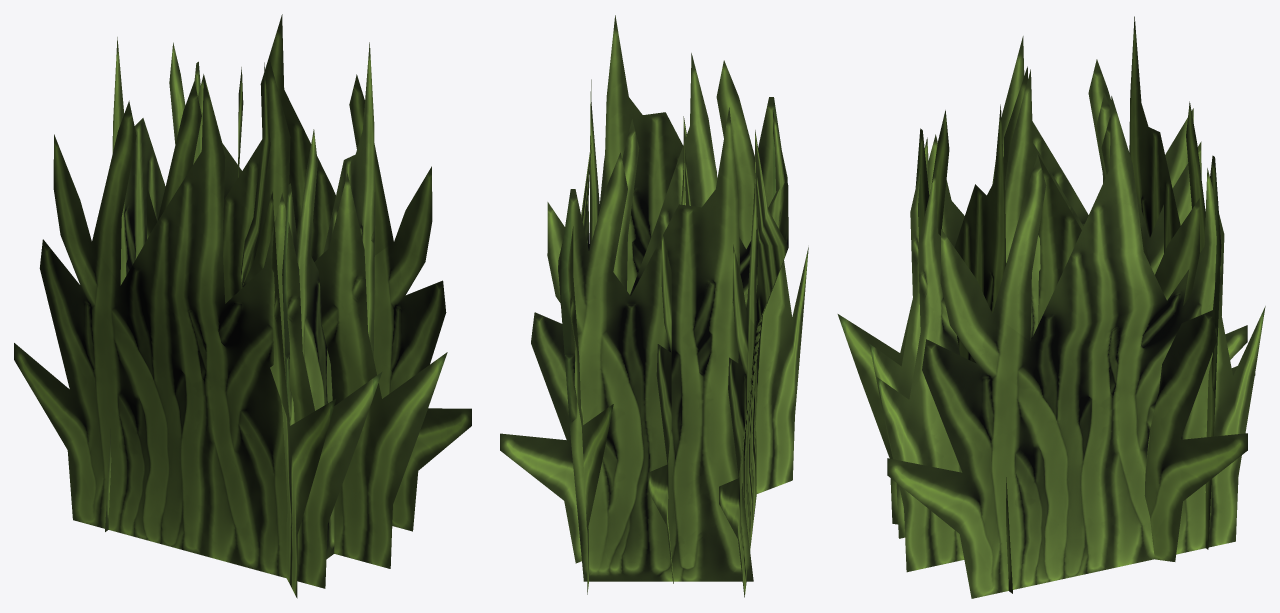
Rendered from Grass.fbx.
3 views of the same model, side by side, from view 1: azimuth 30°, elevation 25°; view 2: azimuth 150°, elevation 25°; view 3: azimuth 270°, elevation 25° (orthographic). The views are drawn at different scales.
Visible parts, largest first — view 1: Grass; view 2: Grass; view 3: Grass.
Part boxes in pixels (box(x1,y1,x2,y2)): Grass: box(14, 14, 471, 598); Grass: box(500, 15, 808, 597); Grass: box(837, 16, 1265, 598).
Size of the model in its own units: 33.08 by 55.89 by 44.99.
